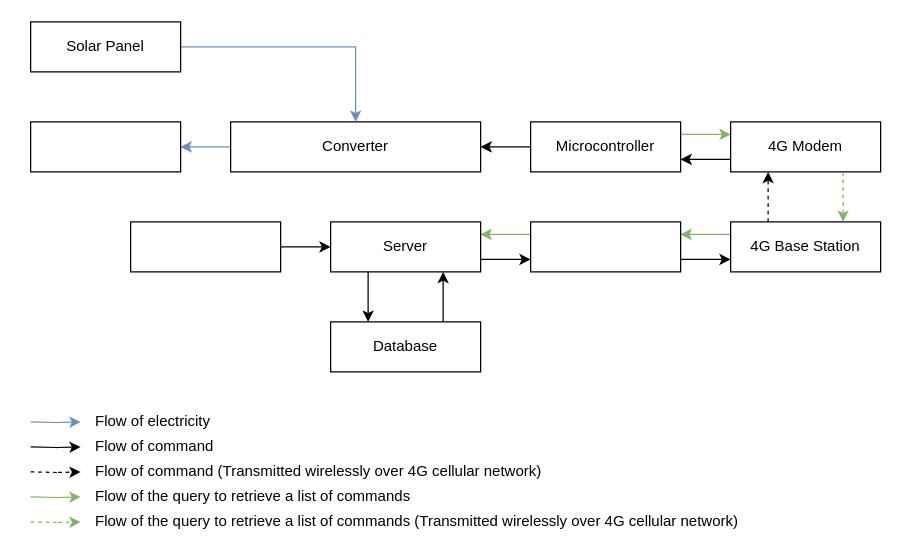
Image size: 903x556. Some labels were removed from this diagram. The shapes that lost their labels are listed below. From the top down, each one's centre as x and y in pixels, then its label:
(x=105, y=146): Battery
(x=205, y=246): Client
(x=605, y=246): Gateway
